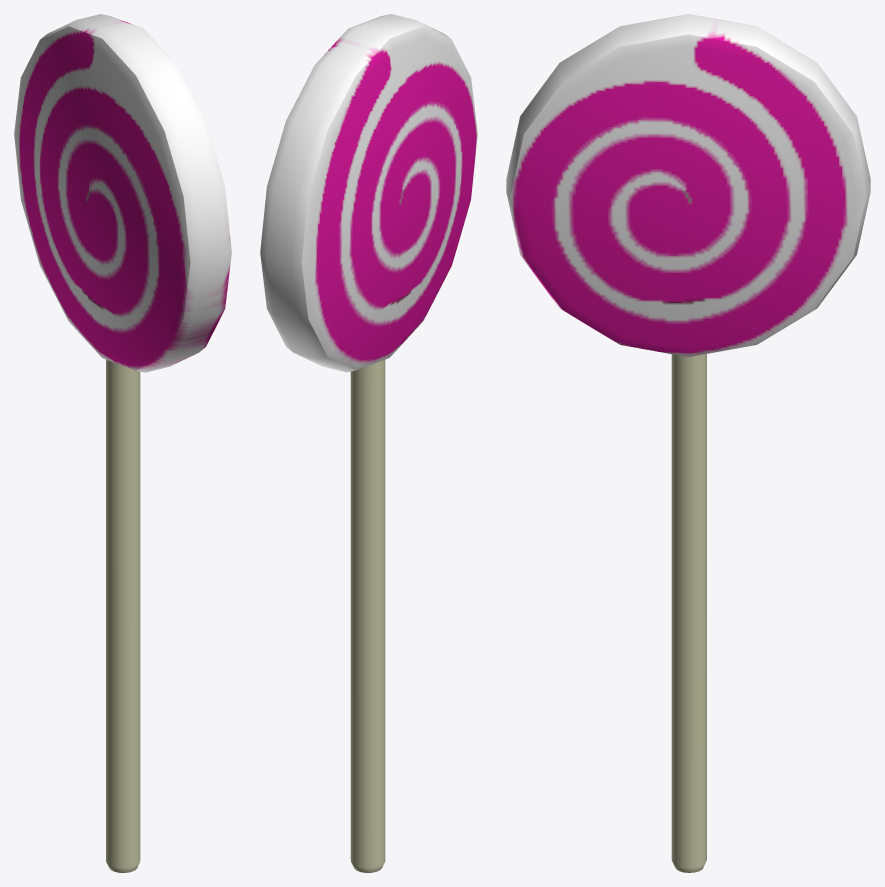
File: leccalecca.fbx
3 renders of one model, left to right at view 1: azimuth 30°, elevation 25°; view 2: azimuth 150°, elevation 25°; view 3: azimuth 270°, elevation 25°, orthographic.
Visible parts, largest first — view 1: pCylinder9, pCylinder10; view 2: pCylinder9, pCylinder10; view 3: pCylinder9, pCylinder10.
Boxes of the visible parts, left/top/right/bottom form: pCylinder9: left=14, top=14, right=231, bottom=372; pCylinder10: left=106, top=359, right=140, bottom=872; pCylinder9: left=260, top=14, right=477, bottom=372; pCylinder10: left=350, top=360, right=385, bottom=872; pCylinder9: left=506, top=14, right=870, bottom=357; pCylinder10: left=671, top=354, right=706, bottom=872.
Size of the model in its own units: 0.2607 by 3.1 by 1.21.
